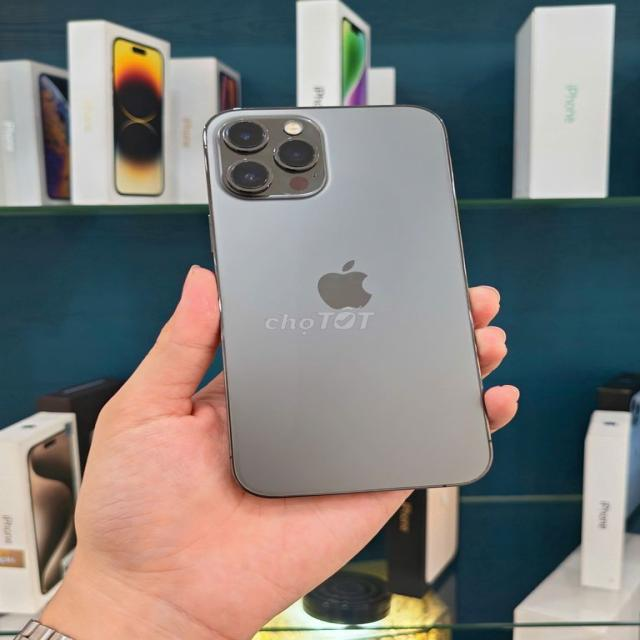gen_12_13: (198, 102, 496, 500)
